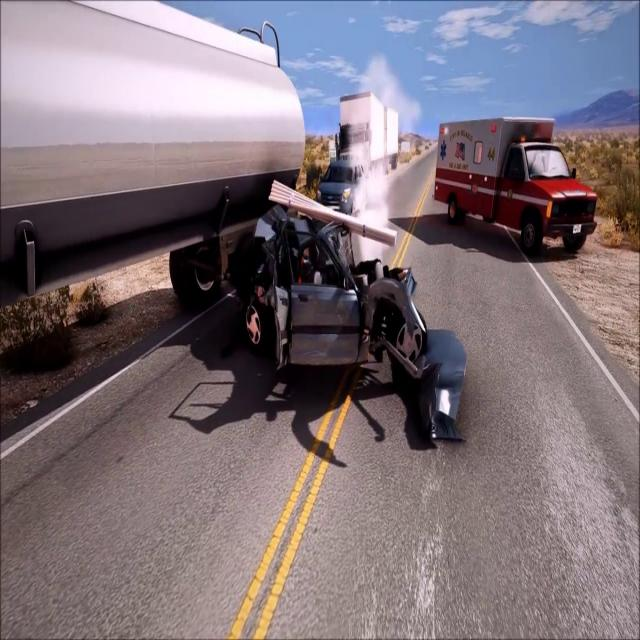accident: (169, 22, 468, 462)
